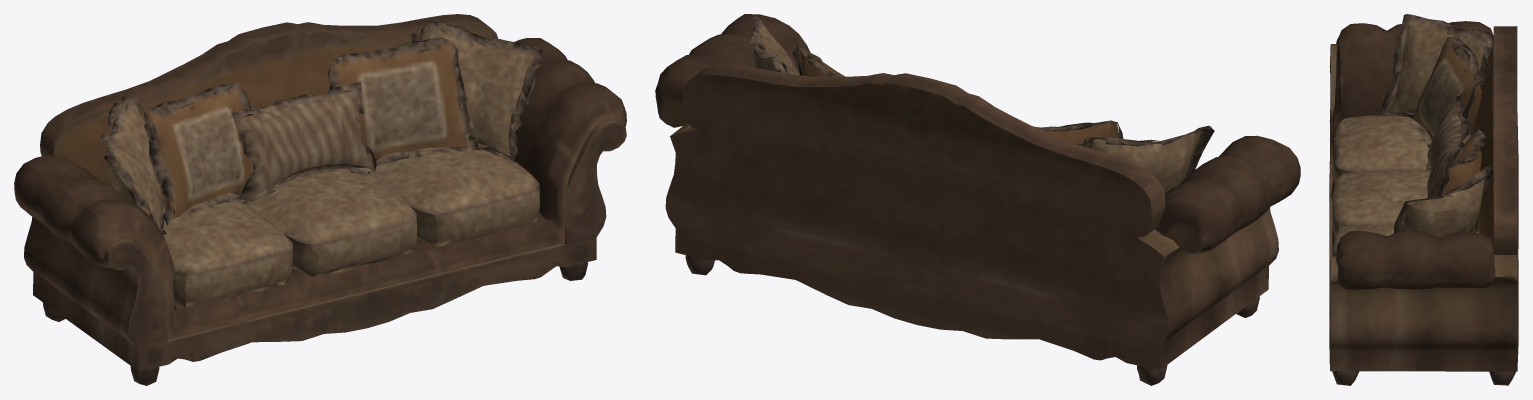
Rendered from sofa_03.glb.
3 renders of one model, left to right at view 1: azimuth 30°, elevation 25°; view 2: azimuth 150°, elevation 25°; view 3: azimuth 270°, elevation 25°, orthographic. The views are drawn at different scales.
Parts seen in each view (by area): view 1: mesh; view 2: mesh; view 3: mesh.
Boxes of the visible parts, x1,y1,x2,y2 form: mesh: [14, 14, 626, 385]; mesh: [655, 14, 1300, 385]; mesh: [1329, 14, 1518, 385].
Bounding box in the file's own units: 2.73 × 1.12 × 0.9249.
1 material, 1 textured.
